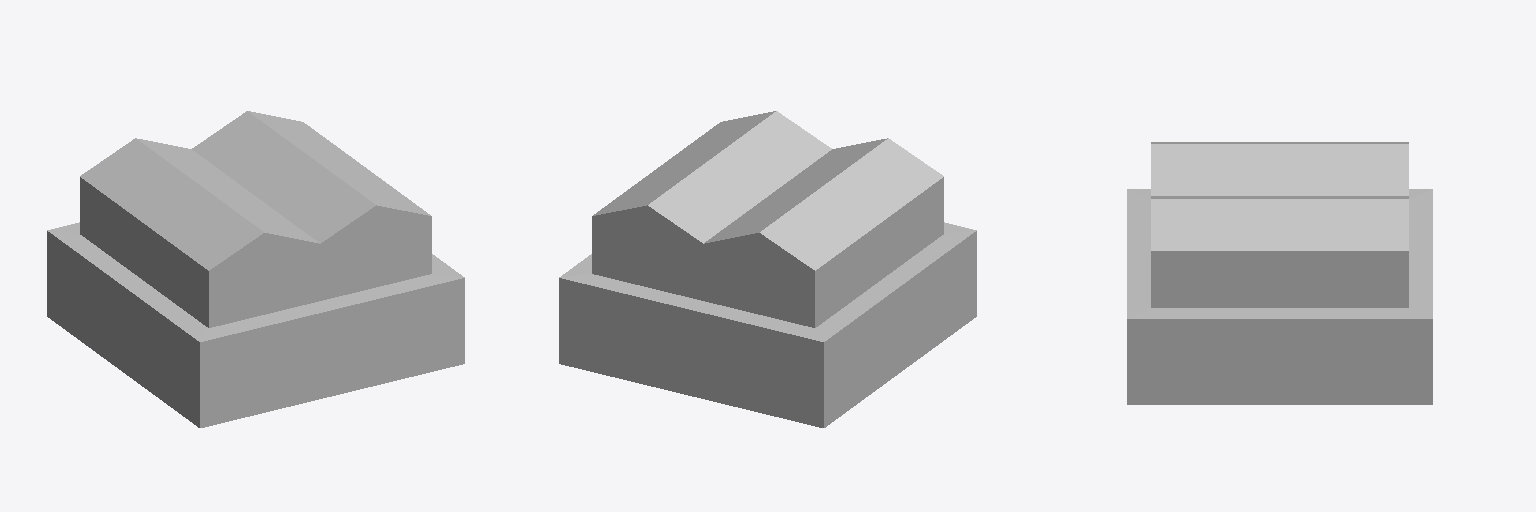
File: placeholderWarehouse01ExportTest01.obj
The picture shows the model from 3 angles: view 1: azimuth 30°, elevation 25°; view 2: azimuth 150°, elevation 25°; view 3: azimuth 270°, elevation 25°; orthographic projection.
Parts seen in each view (by area): view 1: Cube1; view 2: Cube1; view 3: Cube1.
Boxes of the visible parts, x1,y1,x2,y2 form: Cube1: [47, 111, 464, 427]; Cube1: [559, 111, 976, 427]; Cube1: [1127, 142, 1432, 404].
Size of the model in its own units: 1 by 0.6077 by 1.